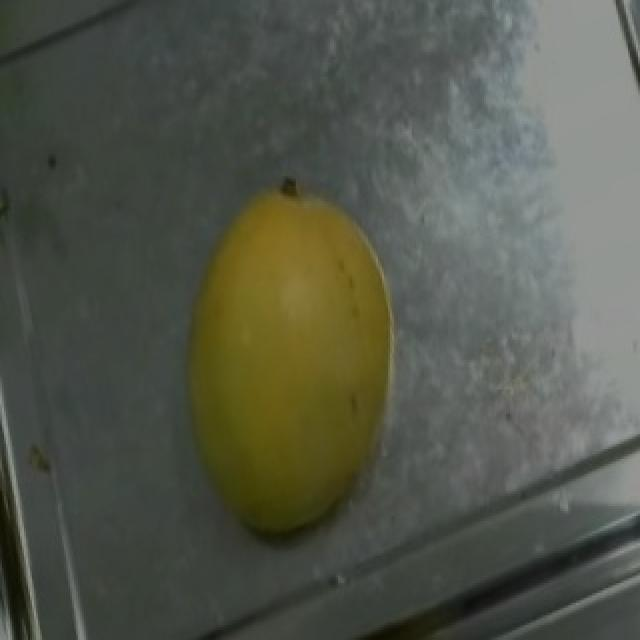fruit: (158, 166, 482, 561)
